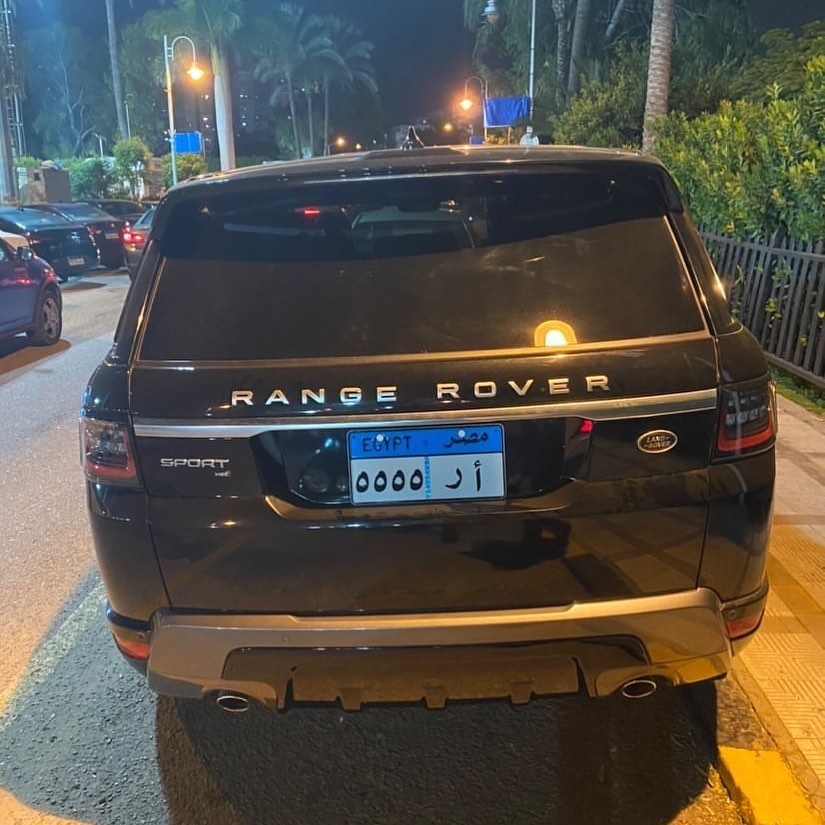carpl: (339, 426, 530, 516)
